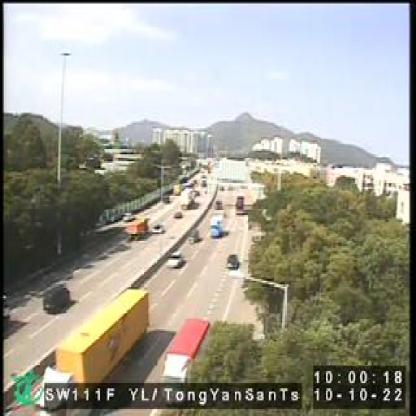Car: (42, 284, 71, 312), (208, 217, 222, 237), (168, 253, 183, 268), (227, 254, 239, 270), (192, 231, 202, 242), (156, 225, 166, 234)
Truck: (34, 290, 150, 414), (162, 319, 212, 380), (125, 216, 150, 240)
